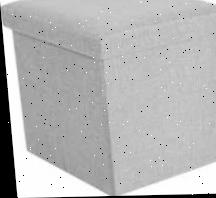cube: (0, 0, 216, 195)
